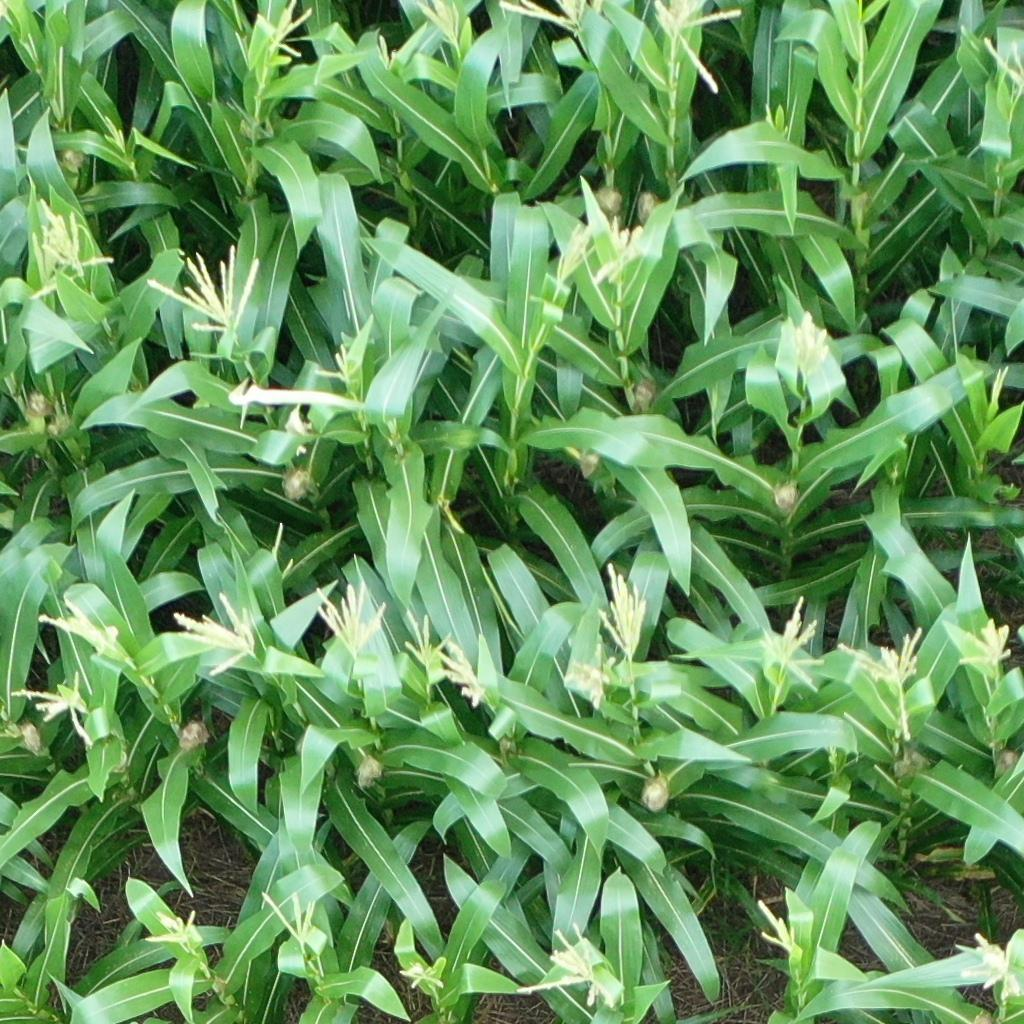Tassel: (144, 241, 263, 345), (838, 625, 924, 742), (24, 195, 117, 302), (649, 1, 751, 94), (519, 924, 613, 1007), (171, 593, 261, 675), (754, 594, 827, 695), (12, 669, 101, 747), (39, 592, 128, 659), (592, 562, 652, 658), (314, 581, 389, 657), (960, 931, 1022, 1002), (545, 214, 596, 287), (953, 615, 1016, 671), (594, 213, 646, 280), (254, 1, 312, 60), (440, 635, 485, 708), (566, 641, 615, 708), (497, 1, 597, 33), (256, 889, 316, 942), (400, 608, 453, 666), (790, 308, 832, 376), (141, 907, 201, 950), (985, 31, 1024, 95), (417, 1, 466, 47), (755, 899, 799, 950), (319, 346, 365, 387), (397, 957, 446, 990), (988, 360, 1009, 413), (101, 112, 126, 150), (372, 32, 396, 71)
